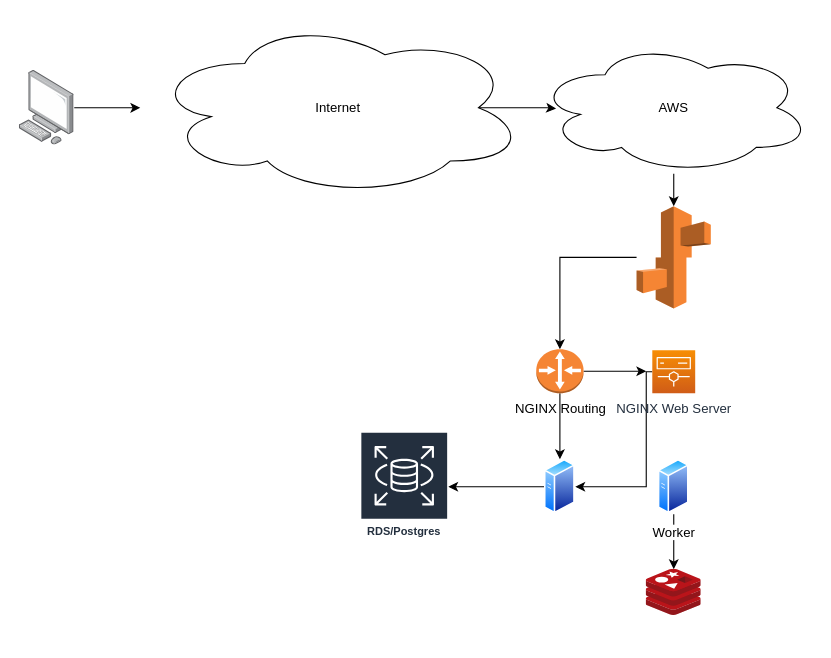
Image size: 831x658. Some labels were removed from this diagram. The box of each missing label's shape, as (x1, y1, x2, y2) in pixels:
Elastic Beanstalk: (635, 205, 711, 309)
Express Server: (544, 459, 575, 514)
Redis/Elasticache: (646, 569, 701, 615)
